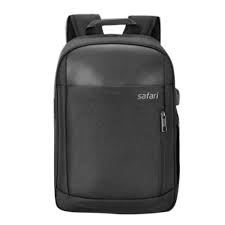backpack: (53, 13, 180, 214)
